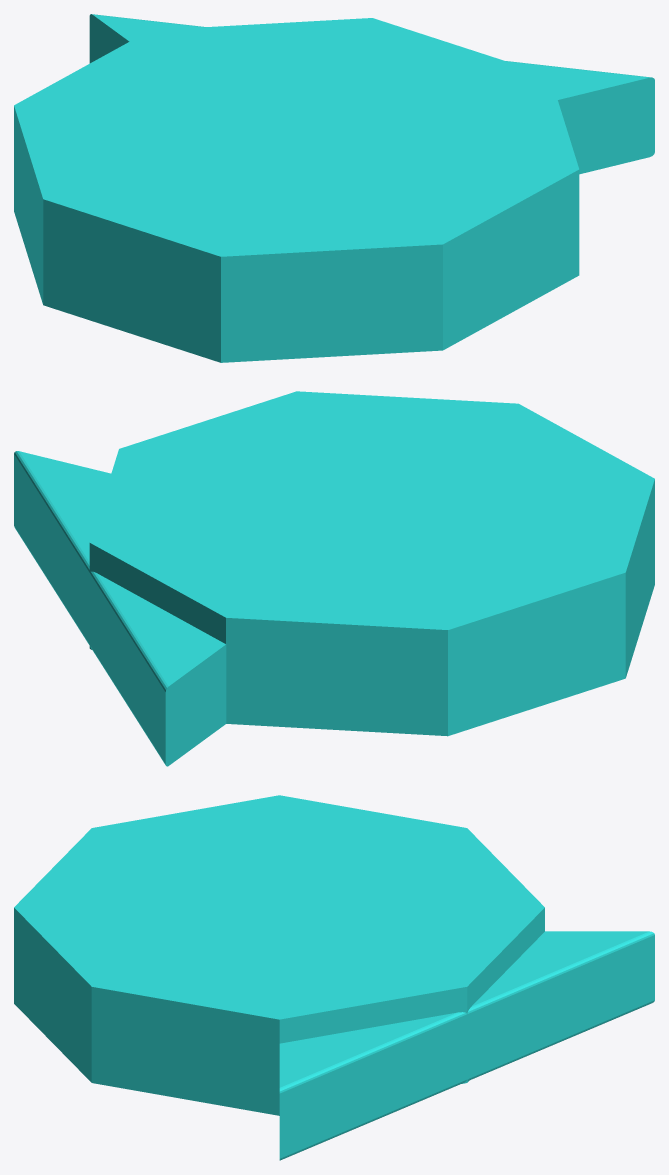
Rendered from StackBallModels.fbx.
3 views of the same model, one above another, from view 1: azimuth 30°, elevation 25°; view 2: azimuth 150°, elevation 25°; view 3: azimuth 270°, elevation 25° (orthographic). The views are drawn at different scales.
Visible parts, largest first — view 1: Bottom, Cube; view 2: Bottom, Cube; view 3: Bottom, Cube.
Part boxes in pixels (x1,y1,x2,y2): Bottom: (14,18,579,362); Cube: (89,14,654,174); Bottom: (89,391,654,736); Cube: (14,451,226,766); Bottom: (14,795,544,1115); Cube: (279,931,654,1160).
Bounding box in the file's own units: 241 × 40.2 × 241.
